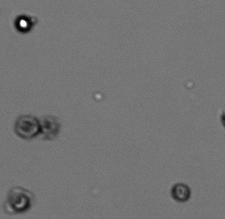Dead Cell: (7, 189, 32, 212), (17, 116, 39, 139), (171, 181, 191, 202), (41, 114, 56, 136)
Living Cell: (14, 13, 32, 32)
